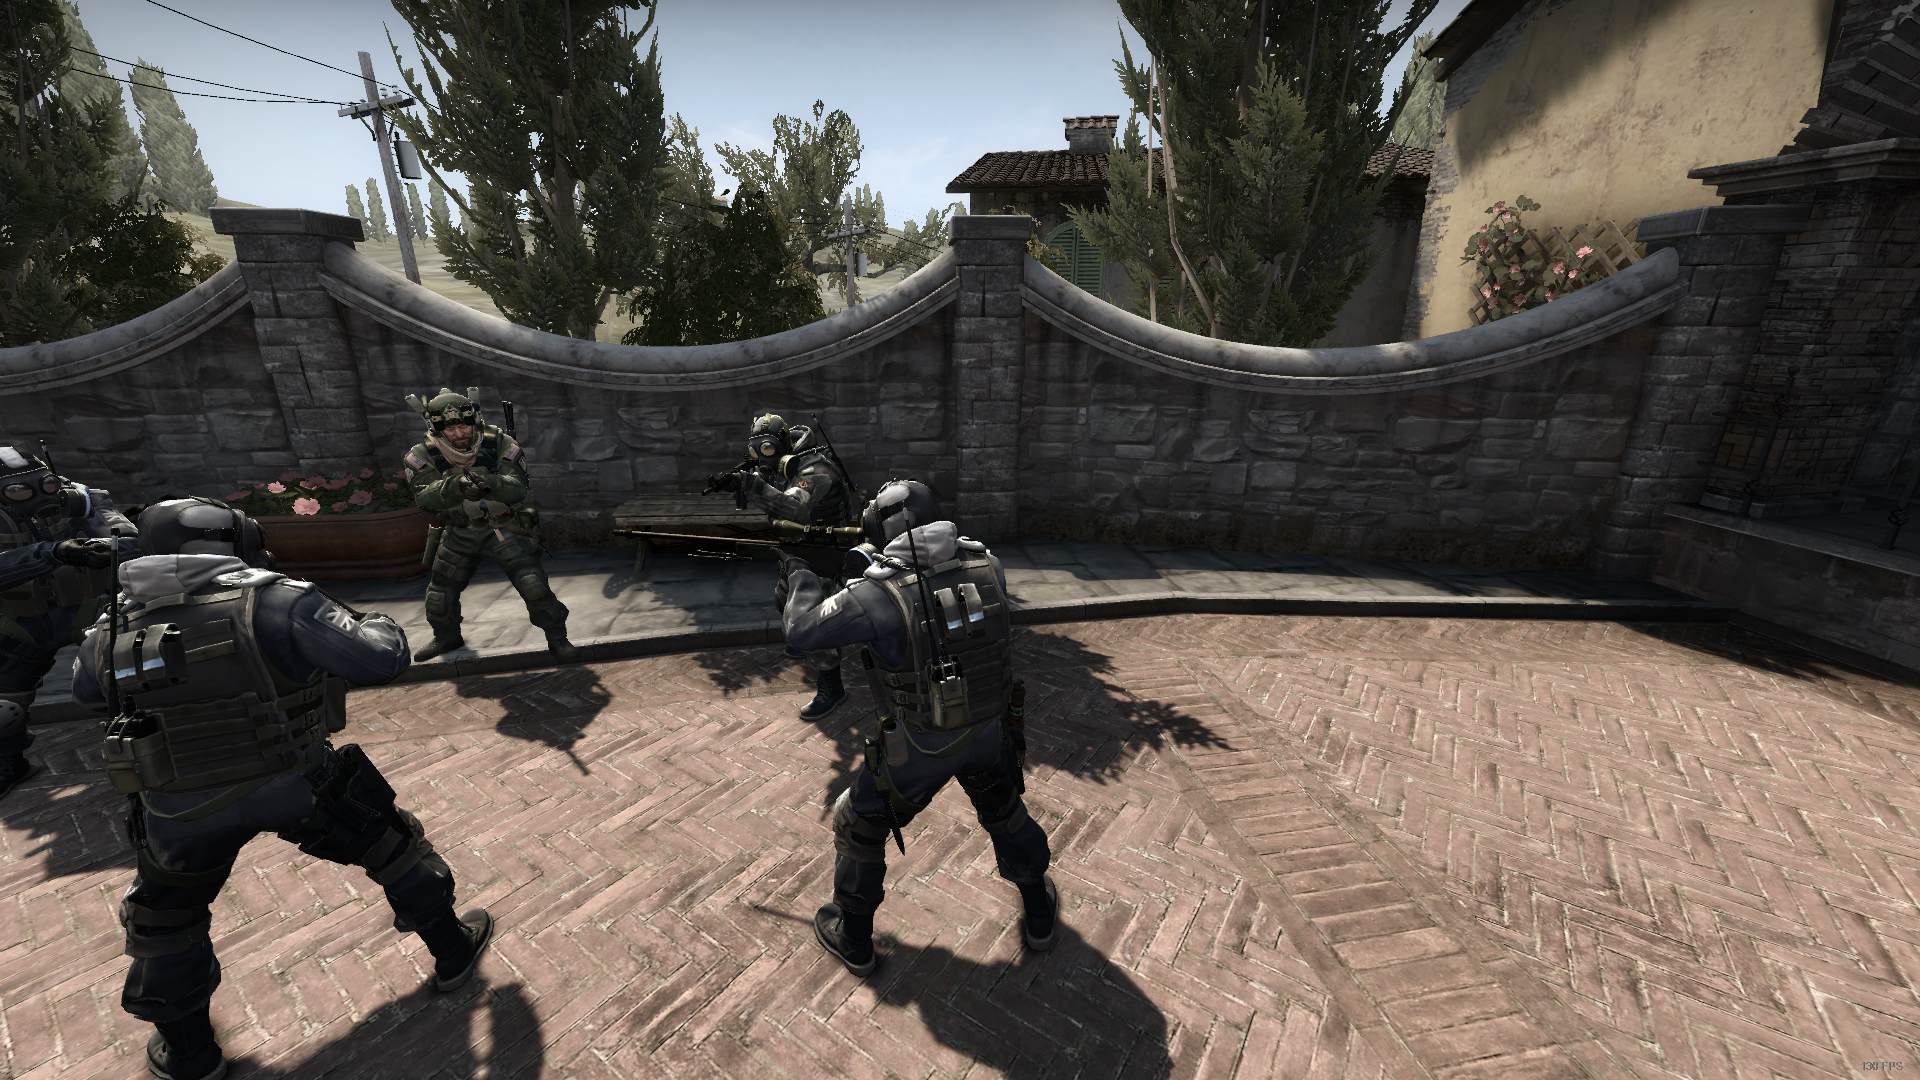ct: (69, 492, 491, 1026), (777, 472, 1065, 975), (1, 442, 140, 791), (729, 410, 851, 723)
